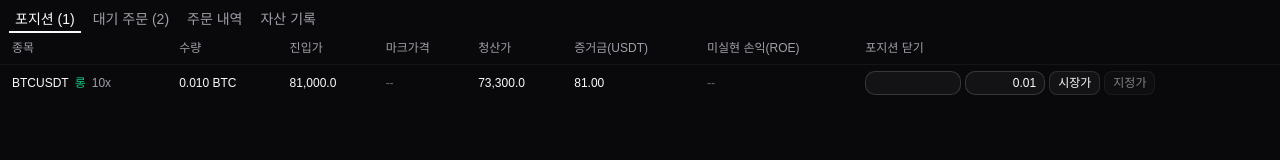
Test: AccountTabs › 탭을 누르면 그 표로 바뀐다
Click the tab "자산 기록". click: (288, 18)
box: left=254, top=8, right=323, bottom=28
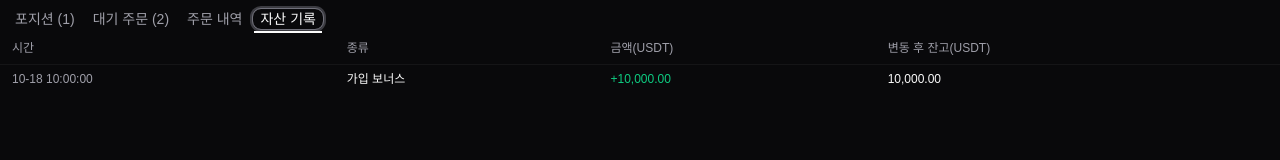
Now the text "가입 보너스" is shown, box left=335, top=64, right=598, bottom=93
